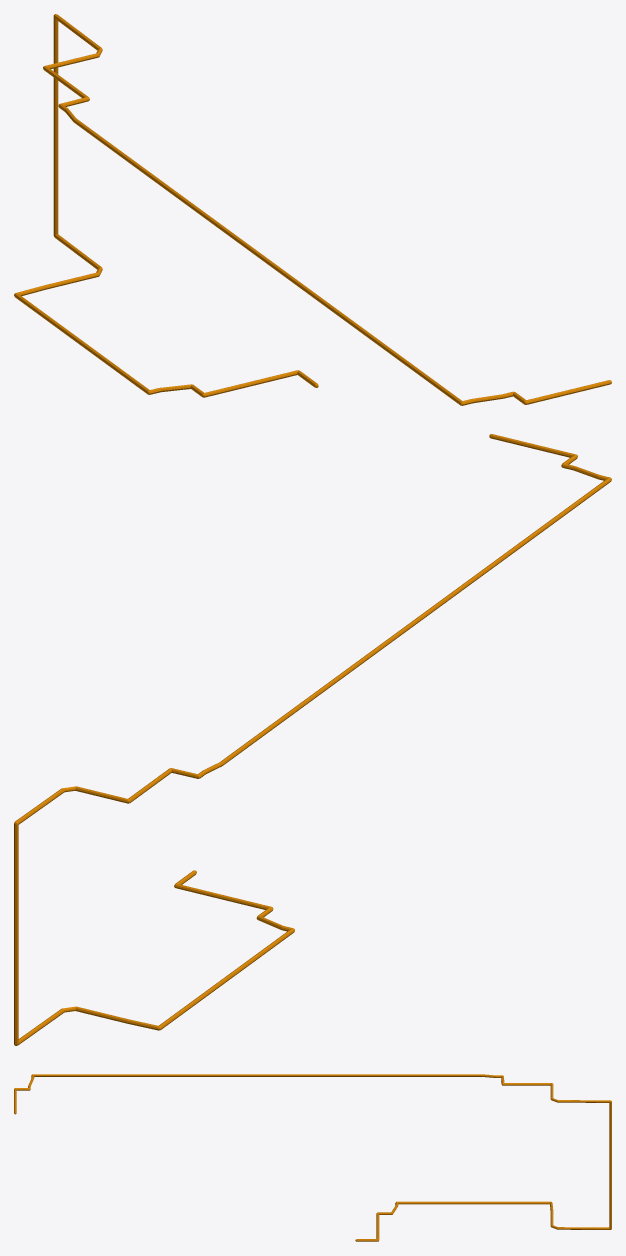
The picture shows the model from 3 angles, top to bottom: view 1: azimuth 30°, elevation 25°; view 2: azimuth 150°, elevation 25°; view 3: azimuth 270°, elevation 25°; orthographic projection. The views are drawn at different scales.
Bounding box in the file's own units: 658 × 1020 × 4265.
